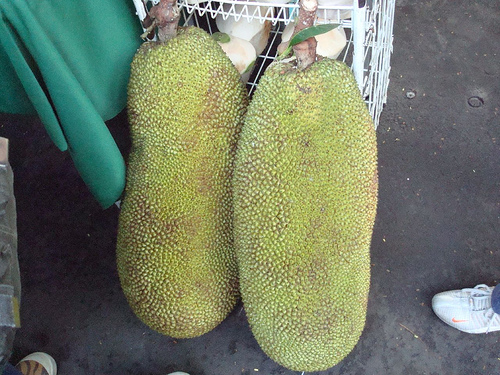jackfruit: (230, 0, 378, 372), (114, 0, 249, 340)
